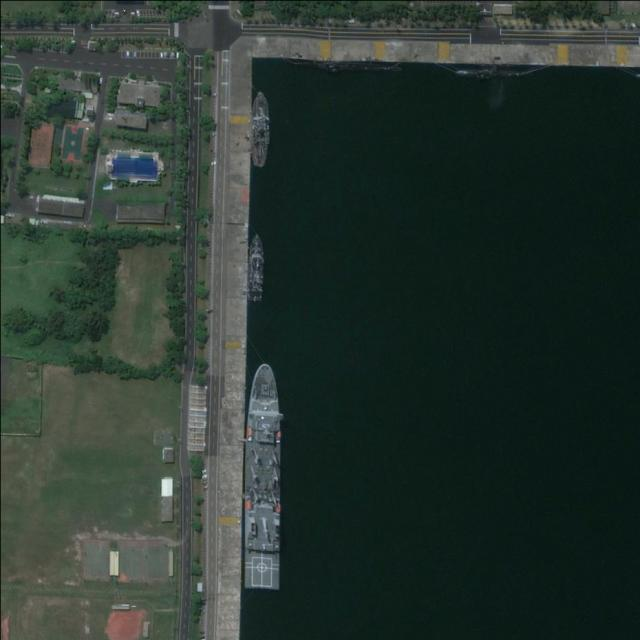Commander: (242, 361, 281, 592)
Other Warship: (252, 92, 270, 167), (248, 233, 264, 301)
Submarine: (286, 60, 398, 71), (455, 71, 529, 78)
